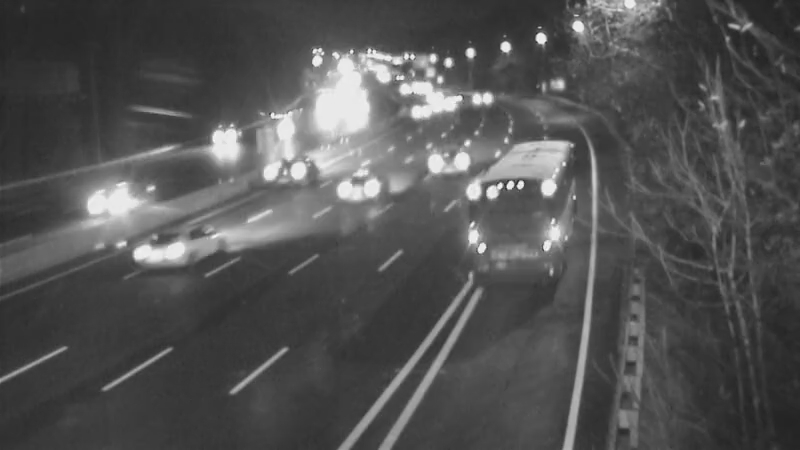vehicle: (254, 133, 334, 213), (329, 145, 409, 225), (120, 208, 200, 288), (434, 222, 514, 302), (72, 158, 152, 238), (453, 67, 503, 117), (414, 75, 464, 125), (393, 86, 443, 136), (425, 117, 475, 167), (200, 115, 250, 165), (260, 109, 310, 159)
